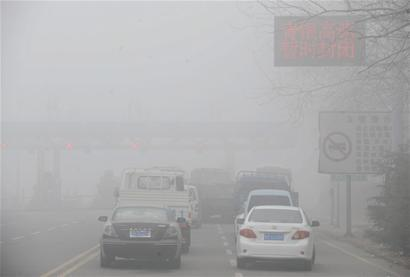bus: (109, 165, 193, 253), (236, 167, 301, 222), (189, 167, 238, 225)
car: (234, 205, 322, 270), (96, 204, 183, 269), (242, 188, 299, 253), (232, 198, 294, 247), (153, 183, 202, 228)
